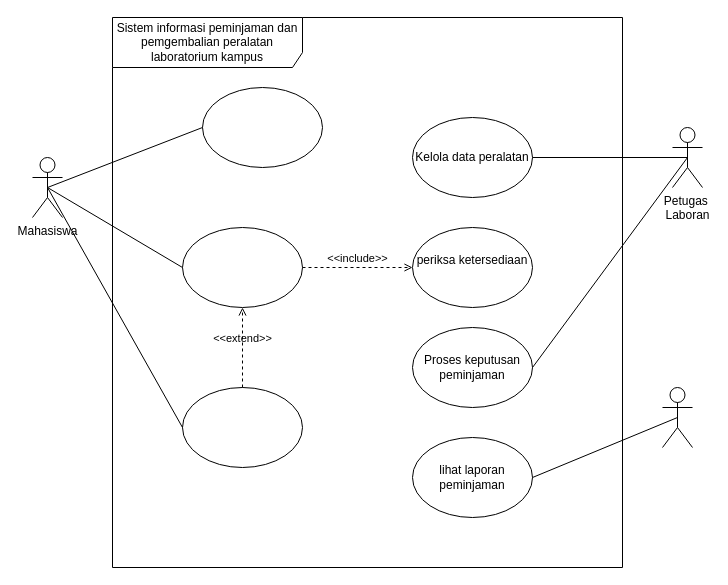
Some shapes in this 728 by 585 pixel diagram are drawn without their labels. The shapes that lost their labels are listed below. From the top down, each one's box as (x1, y1, x2, y2) in pixels, then its label:
(202, 86, 322, 168): Lihat ketersediaan peralatan
(182, 226, 302, 308): ajukan peminjaman
(182, 386, 302, 468): cetak bukti pengajuan
(662, 386, 692, 448): Kepala Laboran
